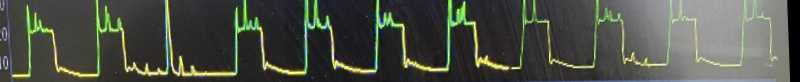hydrop_pressure: (1, 0, 787, 82)
